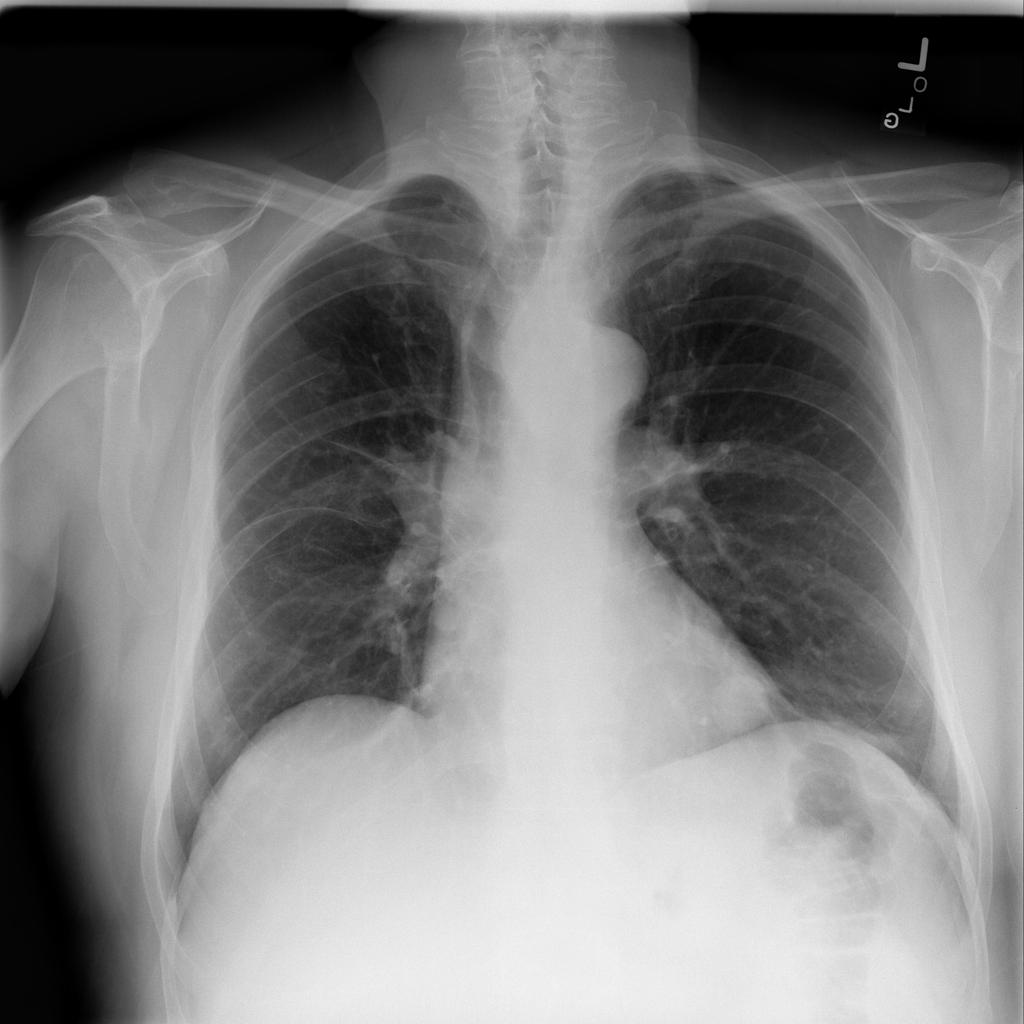nodule: (697, 662, 784, 738)
